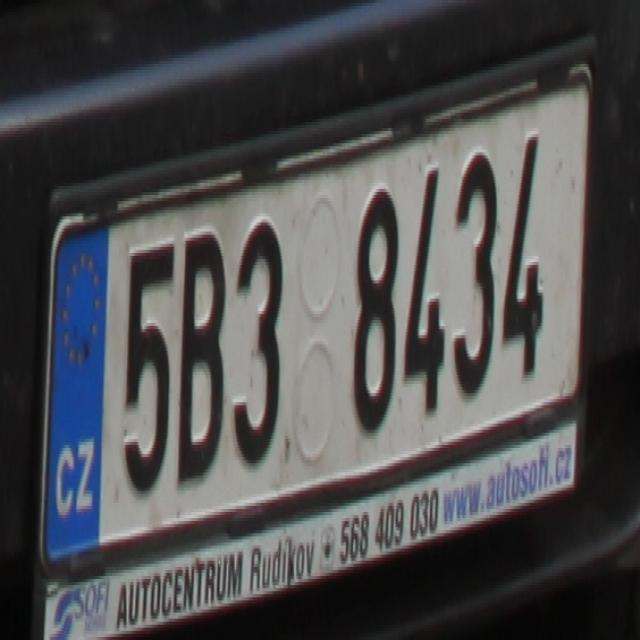3: (232, 210, 282, 467), (453, 149, 498, 393)
4: (399, 156, 445, 418), (505, 128, 547, 369)
5: (116, 240, 174, 490)
8: (348, 180, 398, 436)
B: (174, 225, 224, 476)
